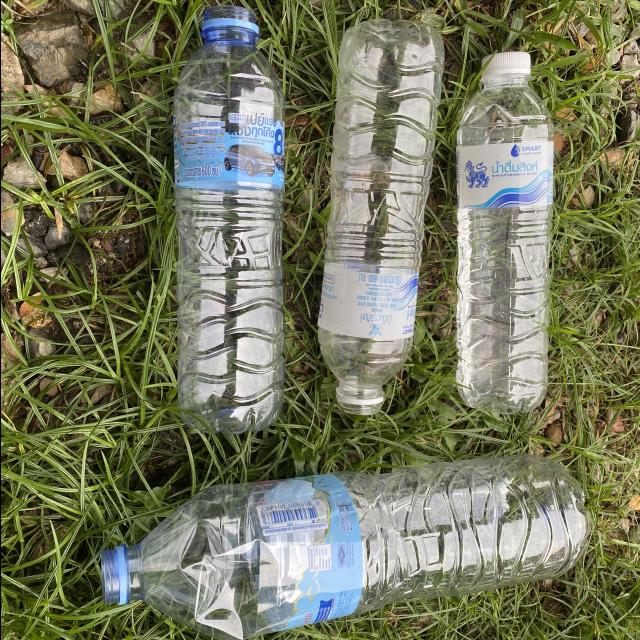plastik: (100, 455, 588, 640), (317, 19, 444, 415), (173, 5, 284, 435), (455, 51, 552, 414)
